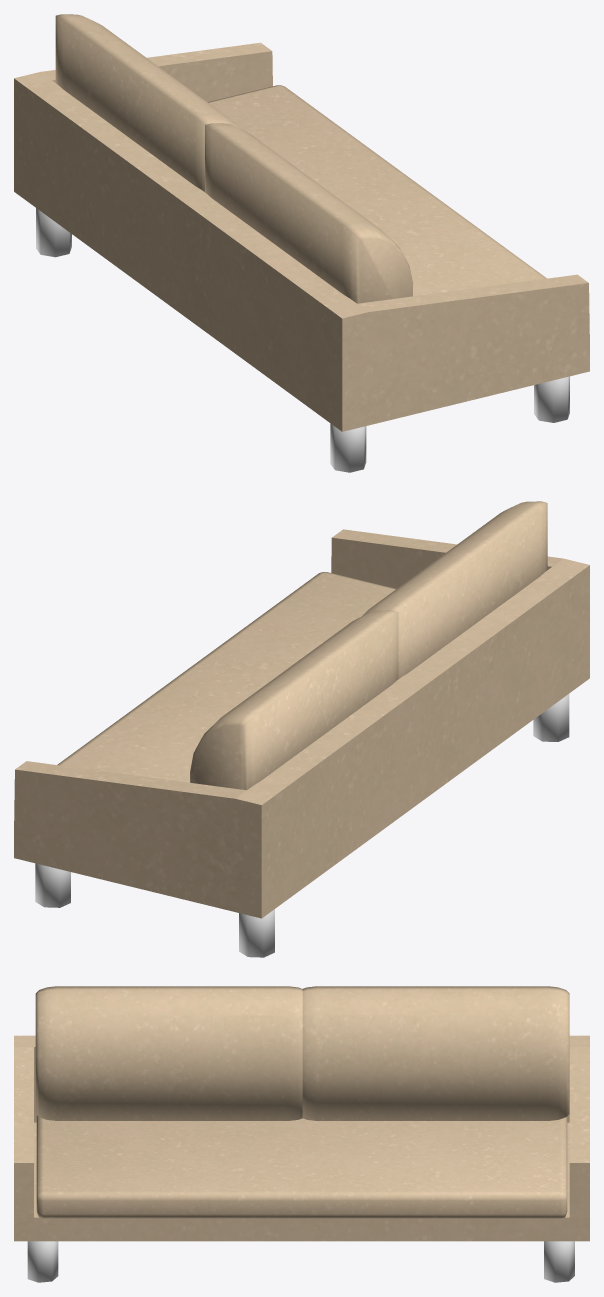
The model's file is sofa.fbx.
3 renders of one model, top to bottom at view 1: azimuth 30°, elevation 25°; view 2: azimuth 150°, elevation 25°; view 3: azimuth 270°, elevation 25°, orthographic. The views are drawn at different scales.
Parts seen in each view (by area): view 1: Cube, Cube.001; view 2: Cube, Cube.001; view 3: Cube.001, Cube.
Boxes of the visible parts, x1,y1,x2,y2 form: Cube: (14,42,589,431); Cube.001: (36,14,569,472); Cube: (14,529,589,918); Cube.001: (35,501,569,957); Cube.001: (27,986,574,1282); Cube: (14,1035,589,1241).
Size of the model in its own units: 356 by 309 by 792.
